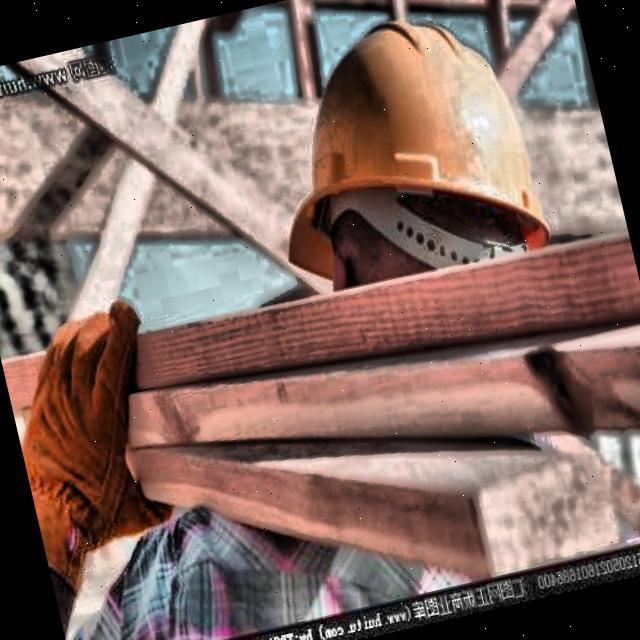helmet: (193, 0, 634, 400)
